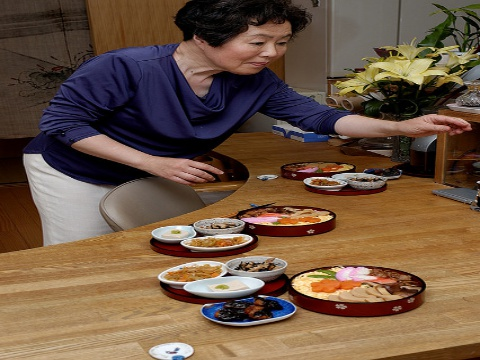hand: (157, 156, 224, 184), (402, 113, 473, 138)
